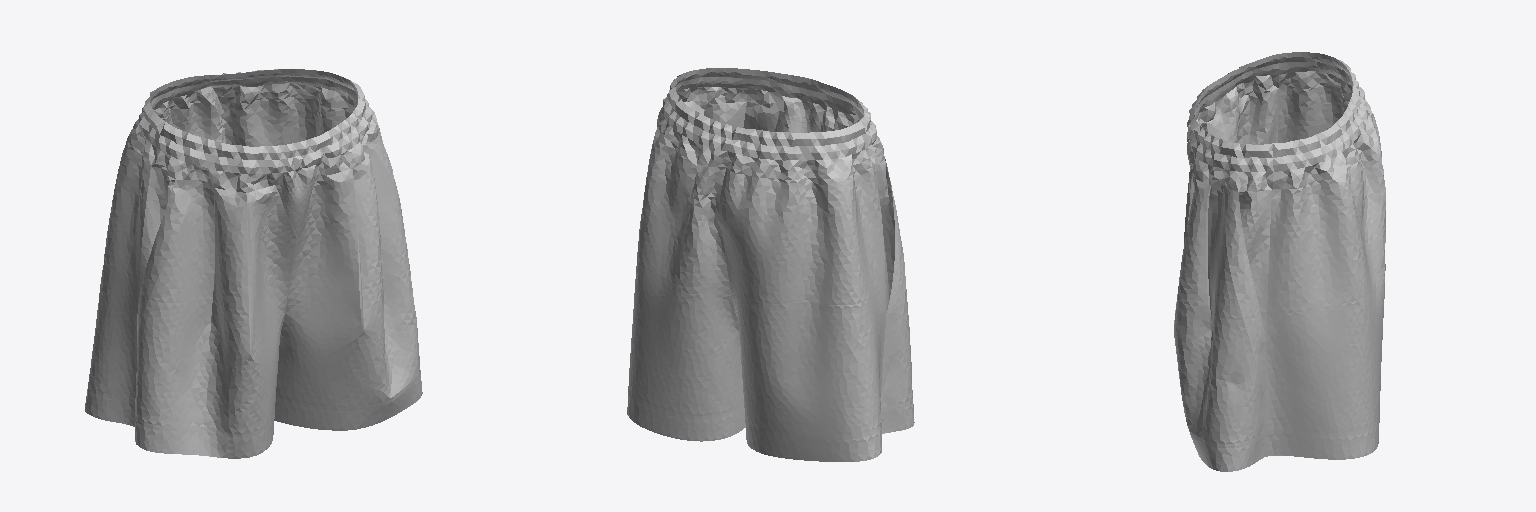
Rendered from Small_Average.obj.
3 renders of one model, left to right at view 1: azimuth 30°, elevation 25°; view 2: azimuth 150°, elevation 25°; view 3: azimuth 270°, elevation 25°, orthographic.
Parts seen in each view (by area): view 1: duanku.005; view 2: duanku.005; view 3: duanku.005.
Boxes of the visible parts, box(x1,y1,x2,y2) form: duanku.005: box(85, 69, 422, 458); duanku.005: box(627, 68, 914, 461); duanku.005: box(1174, 52, 1385, 471).
Size of the model in its own units: 0.453 by 0.5023 by 0.2985.